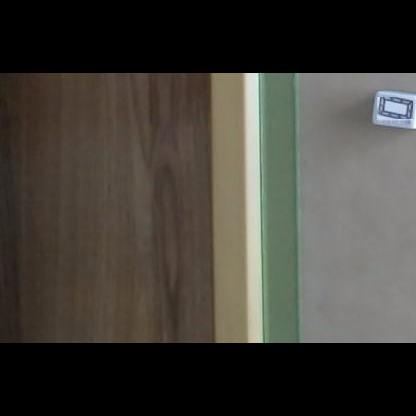5z: (377, 98, 413, 124)
